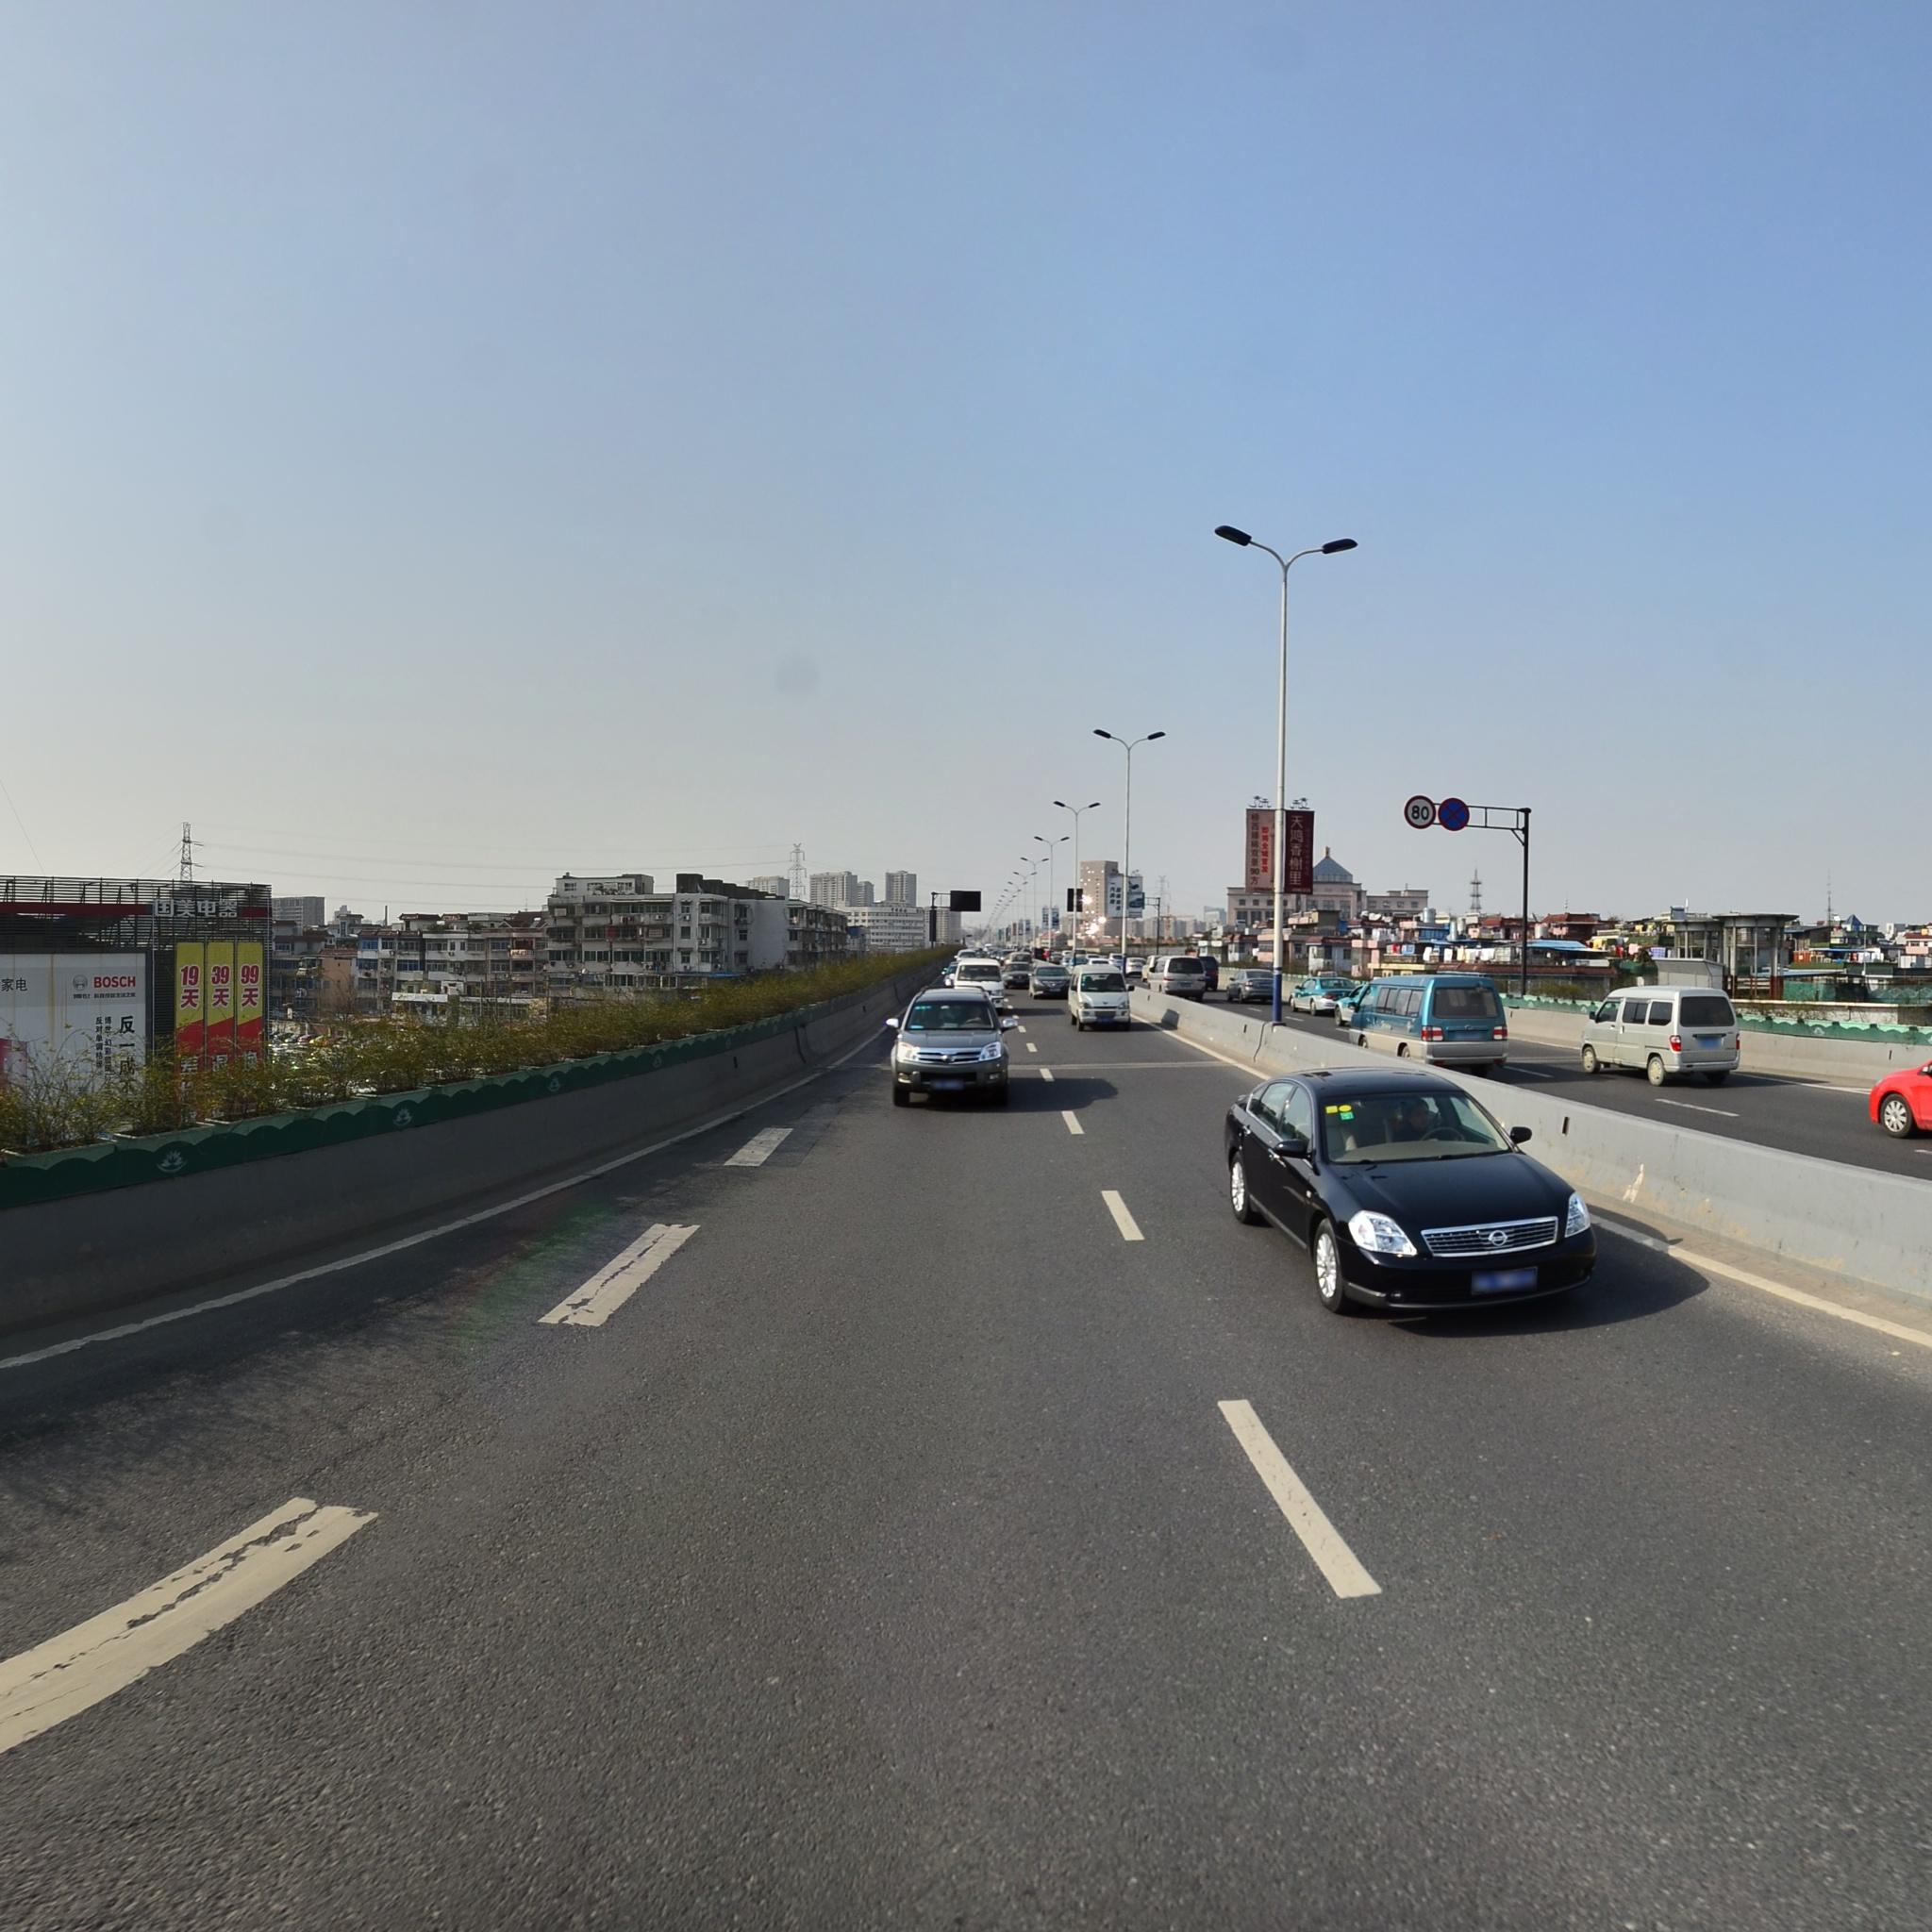pl80: (1405, 794, 1437, 830)
pn: (1438, 798, 1470, 832)
